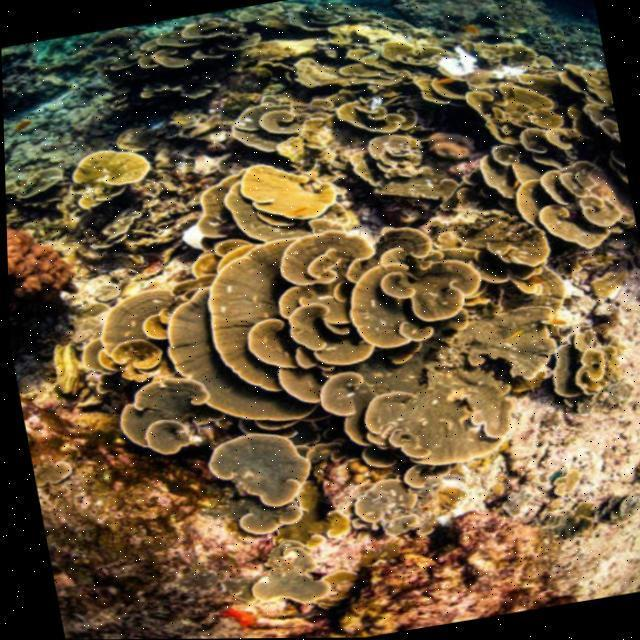Healthy Coral: (105, 32, 640, 534)
